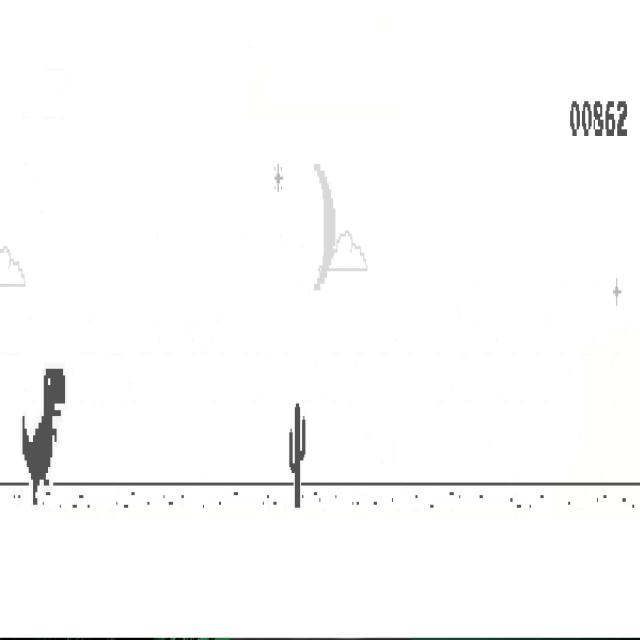cacto: (288, 400, 306, 510)
dino: (22, 366, 66, 507)
